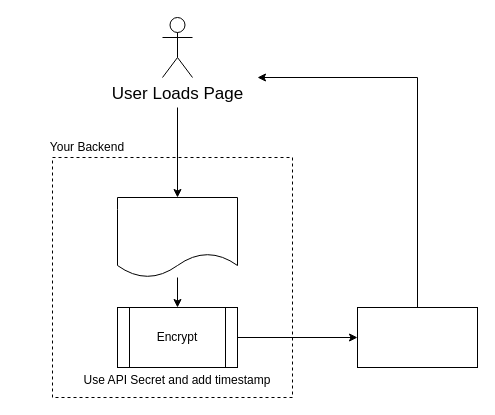
Some shapes in this 495 by 415 pixel diagram are drawn without their labels. Each missing label, with the centre of its shape:
Comment Widget: point 417,337
User ID, username, email, avatar URL: point 177,237
